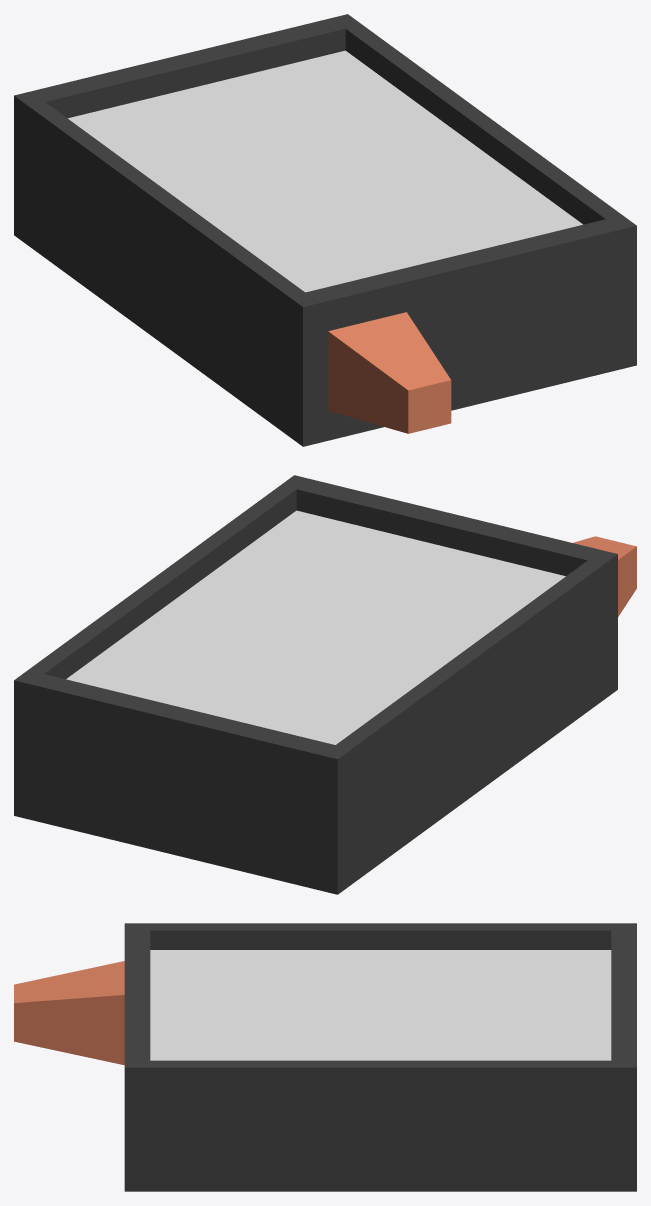
Rendered from insulin_pump_1.glb.
3 renders of one model, top to bottom at view 1: azimuth 30°, elevation 25°; view 2: azimuth 150°, elevation 25°; view 3: azimuth 270°, elevation 25°, orthographic. The views are drawn at different scales.
Parts seen in each view (by area): view 1: Cube.001; view 2: Cube.001; view 3: Cube.001.
Part boxes in pixels (x1,y1,x2,y2): Cube.001: [14, 14, 636, 446]; Cube.001: [14, 475, 636, 894]; Cube.001: [14, 923, 636, 1191].
Size of the model in its own units: 0.08 by 0.032 by 0.1459.
